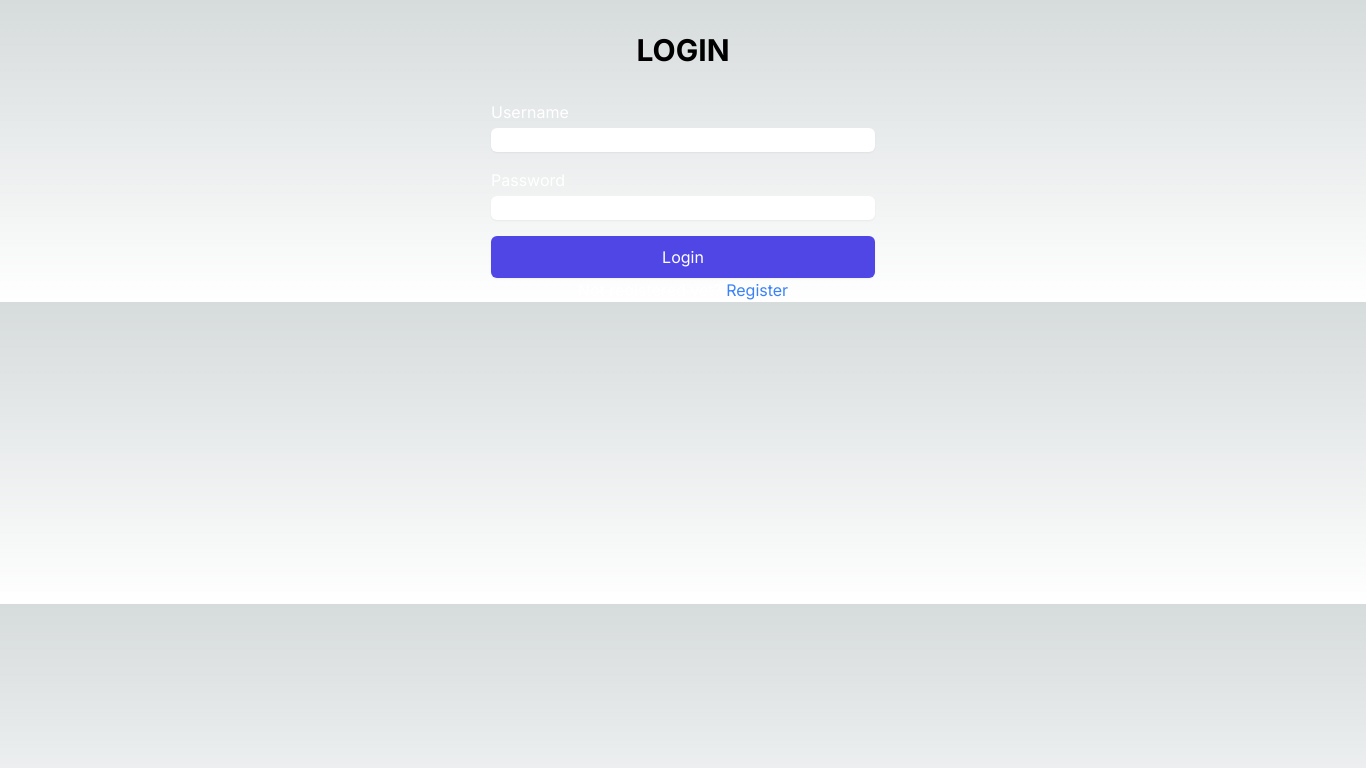
it: LoginForm › should display error message for empty fields
Click the button "Login" at (683, 257), box [491,236,875,278]
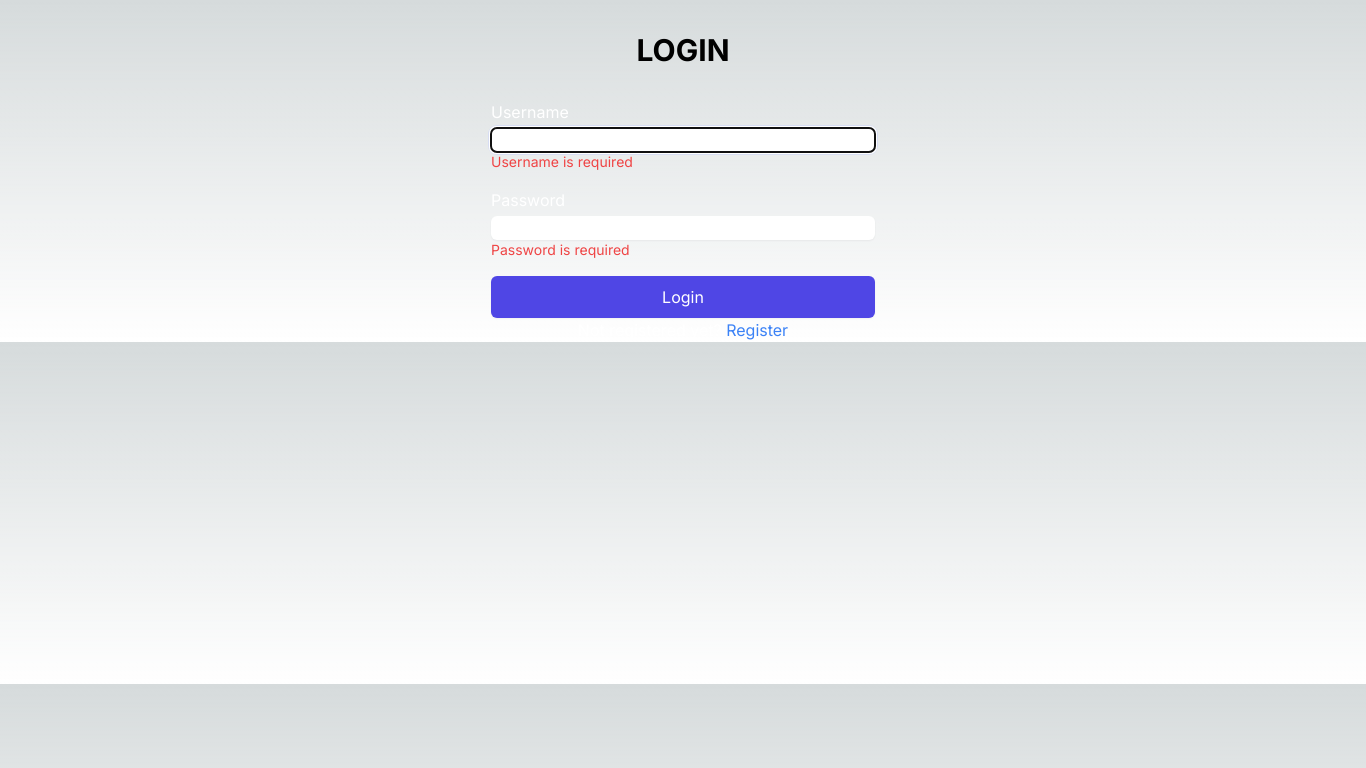
Check: the text "Username is required" is shown, box [491,153,633,170]
Check: the text "Password is required" is shown, box [491,241,630,258]
